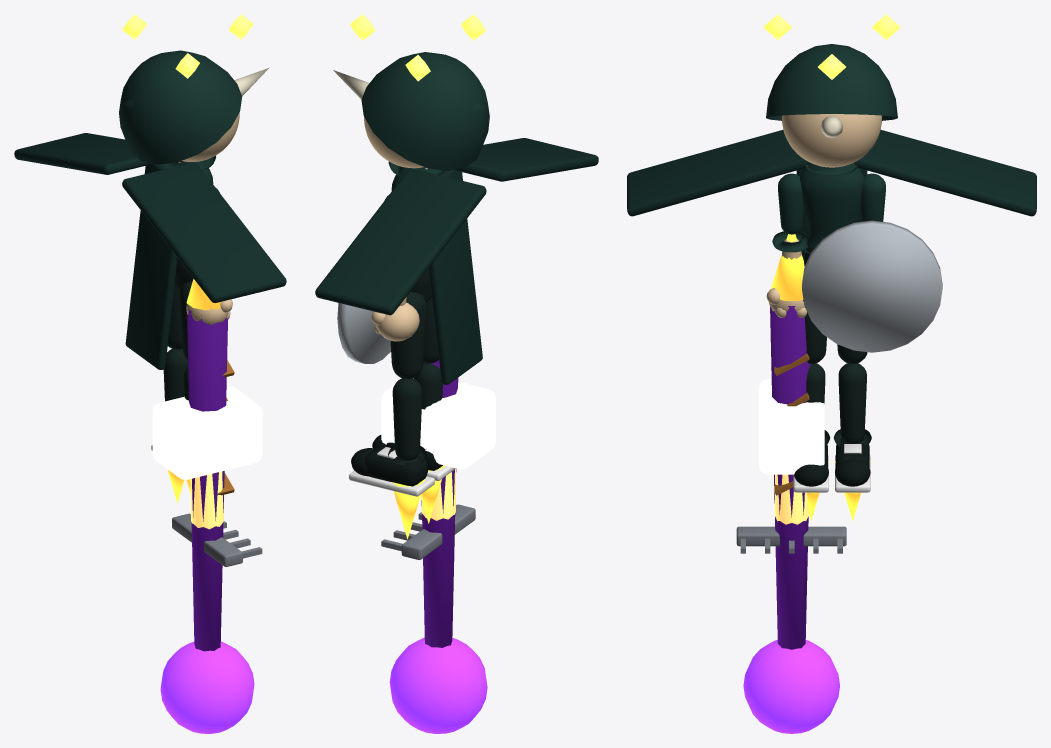
File: umbra.glb
3 renders of one model, left to right at view 1: azimuth 30°, elevation 25°; view 2: azimuth 150°, elevation 25°; view 3: azimuth 270°, elevation 25°, orthographic. The views are drawn at different scales.
Visible parts, largest first — view 1: wing0, hood, hammerHead, shadowArm, shadowFist, cape, wing1, baguette, rakeHead, calf.001, thigh.001, skull (+3 smaller); view 2: wing1, hood, shadowFist, cape, hammerHead, shadowArm, wing0, prop:lid, calf.001, thigh.001, shoe.001, rakeHead (+7 smaller); view 3: prop:lid, wing0, wing1, shadowArm, hood, shadowFist, hammerHead, skull, torso, calf.001, rakeHead, upperArm (+6 smaller).
Boxes of the visible parts, bbox=[...] form: wing0: bbox=[122, 162, 286, 302]; hood: bbox=[119, 50, 242, 164]; hammerHead: bbox=[152, 386, 262, 479]; shadowArm: bbox=[187, 309, 228, 651]; shadowFist: bbox=[160, 641, 254, 733]; cape: bbox=[125, 164, 177, 369]; wing1: bbox=[14, 133, 153, 174]; baguette: bbox=[190, 471, 224, 529]; rakeHead: bbox=[172, 513, 242, 566]; calf.001: bbox=[163, 349, 187, 401]; thigh.001: bbox=[167, 286, 182, 349]; skull: bbox=[182, 113, 239, 161]; wing1: bbox=[315, 168, 486, 315]; hood: bbox=[361, 52, 489, 170]; shadowFist: bbox=[389, 637, 487, 733]; cape: bbox=[429, 170, 482, 384]; hammerHead: bbox=[381, 378, 495, 469]; shadowArm: bbox=[421, 360, 458, 647]; wing0: bbox=[454, 138, 598, 181]; prop:lid: bbox=[337, 303, 390, 363]; calf.001: bbox=[392, 378, 422, 460]; thigh.001: bbox=[390, 291, 426, 379]; shoe.001: bbox=[365, 447, 427, 486]; rakeHead: bbox=[401, 504, 475, 559]; prop:lid: bbox=[802, 220, 942, 352]; wing0: bbox=[627, 130, 809, 216]; wing1: bbox=[854, 130, 1036, 216]; shadowArm: bbox=[770, 306, 811, 649]; hood: bbox=[766, 44, 897, 120]; shadowFist: bbox=[743, 640, 839, 733]; hammerHead: bbox=[758, 379, 824, 474]; skull: bbox=[782, 114, 881, 167]; torso: bbox=[800, 162, 863, 248]; calf.001: bbox=[838, 363, 866, 443]; rakeHead: bbox=[736, 526, 846, 546]; upperArm: bbox=[778, 173, 803, 234].
Size of the model in its own units: 0.84 by 3.53 by 1.86.
